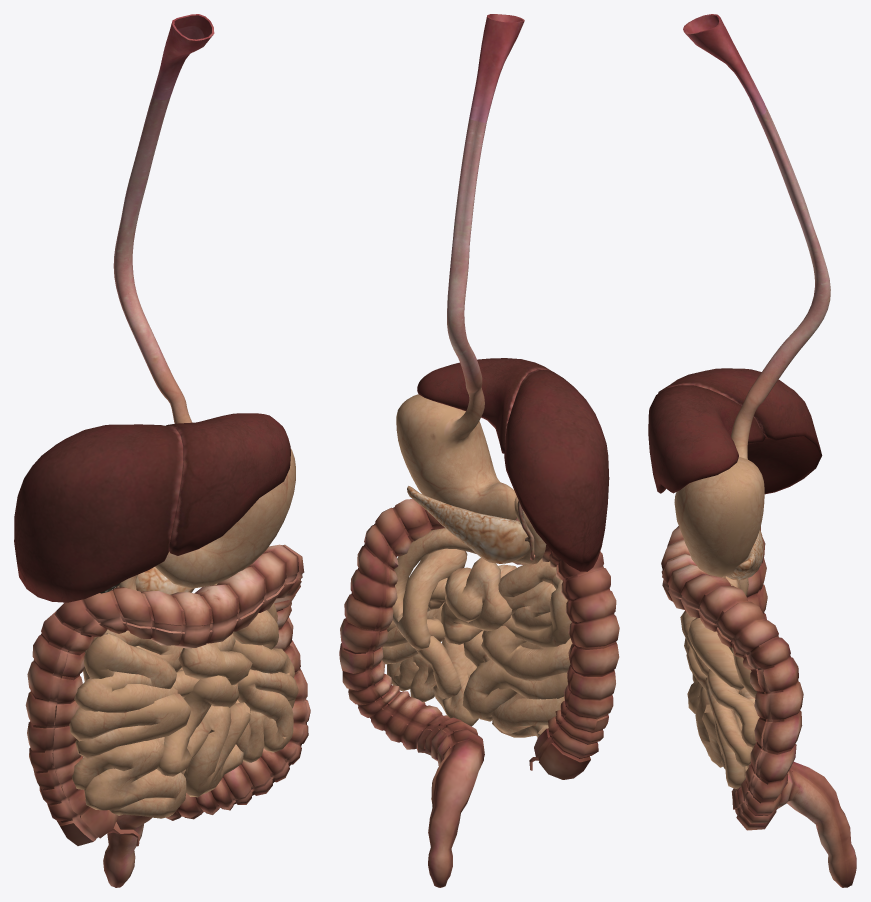
The model's file is digestive.glb.
The picture shows the model from 3 angles, left to right: view 1: azimuth 30°, elevation 25°; view 2: azimuth 150°, elevation 25°; view 3: azimuth 270°, elevation 25°; orthographic projection. The views are drawn at different scales.
Parts seen in each view (by area): view 1: DigestiveSystem001_Digestive_System_0_8_9; view 2: DigestiveSystem001_Digestive_System_0_8_9; view 3: DigestiveSystem001_Digestive_System_0_8_9.
Boxes of the visible parts, x1=… form: DigestiveSystem001_Digestive_System_0_8_9: x1=14, y1=14, x2=310, y2=887; DigestiveSystem001_Digestive_System_0_8_9: x1=339, y1=14, x2=619, y2=887; DigestiveSystem001_Digestive_System_0_8_9: x1=648, y1=14, x2=856, y2=887.
Size of the model in its own units: 22.71 by 67.72 by 14.76.
1 material, 1 textured.
